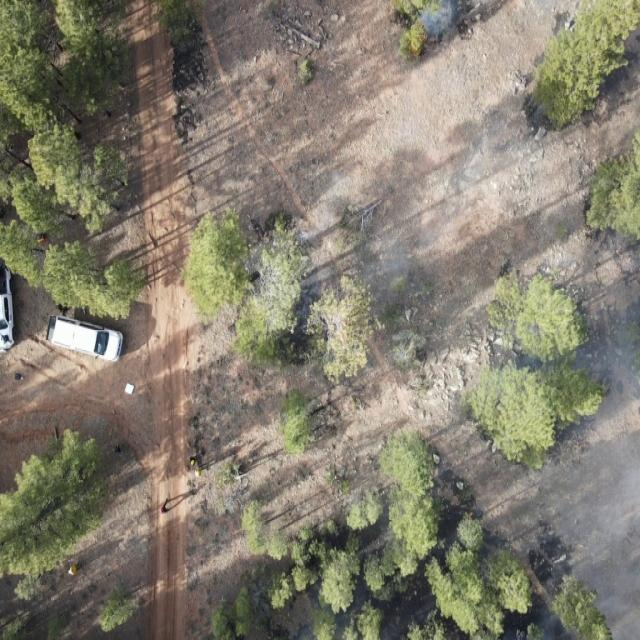fire: (405, 18, 433, 58)
smoke: (254, 169, 439, 383), (473, 290, 640, 464), (510, 462, 640, 640), (414, 0, 498, 46), (590, 228, 640, 257)
